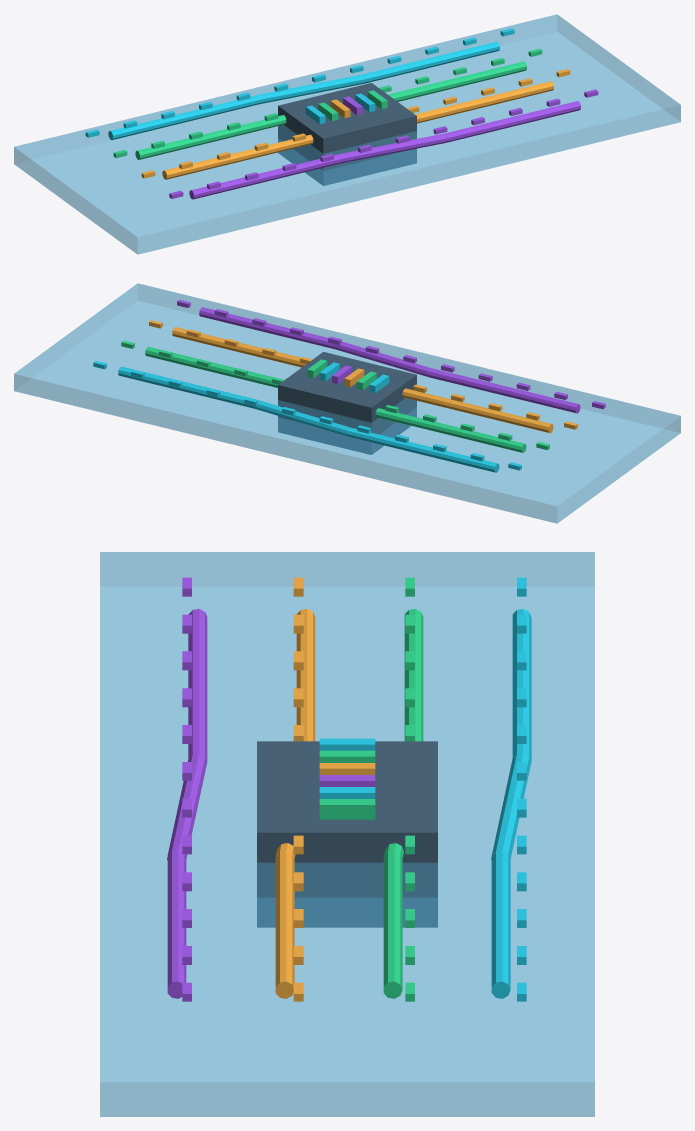
File: 49_L80_ChipletOpticalTestRouter.fbx
3 views of the same model, one above another, from view 1: azimuth 30°, elevation 25°; view 2: azimuth 150°, elevation 25°; view 3: azimuth 270°, elevation 25° (orthographic). The views are drawn at different scales.
Parts seen in each view (by area): view 1: ChipletOpticalTestRouter, ChipletOpticalTestRouter_Part_0069; view 2: ChipletOpticalTestRouter, ChipletOpticalTestRouter_Part_0069; view 3: ChipletOpticalTestRouter, ChipletOpticalTestRouter_Part_0069, ChipletOpticalTestRouter_Part_0075.
Part boxes in pixels (bbox=[...]): ChipletOpticalTestRouter: bbox=[14, 14, 680, 254]; ChipletOpticalTestRouter_Part_0069: bbox=[278, 83, 416, 185]; ChipletOpticalTestRouter: bbox=[14, 283, 680, 523]; ChipletOpticalTestRouter_Part_0069: bbox=[278, 352, 416, 454]; ChipletOpticalTestRouter: bbox=[100, 552, 594, 1116]; ChipletOpticalTestRouter_Part_0069: bbox=[257, 741, 437, 927]; ChipletOpticalTestRouter_Part_0075: bbox=[319, 799, 375, 819].
Bounding box in the file's own units: 360 × 34.6 × 142.
